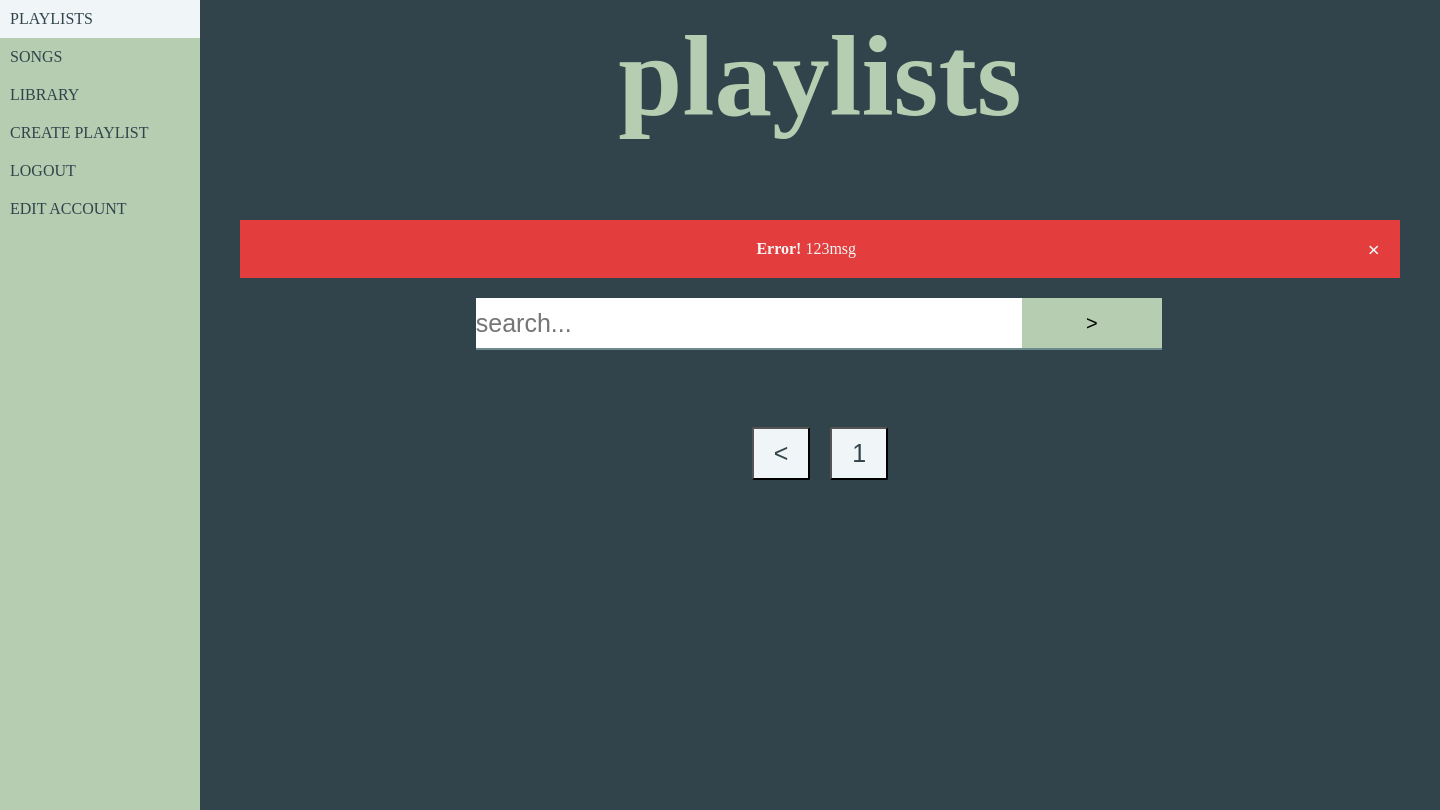
it: tests main render with error
Check: the text "× Error! 123msg" is shown, box [240,220,1400,278]
Click the text "×": (1374, 250) [1368,240,1380,260]
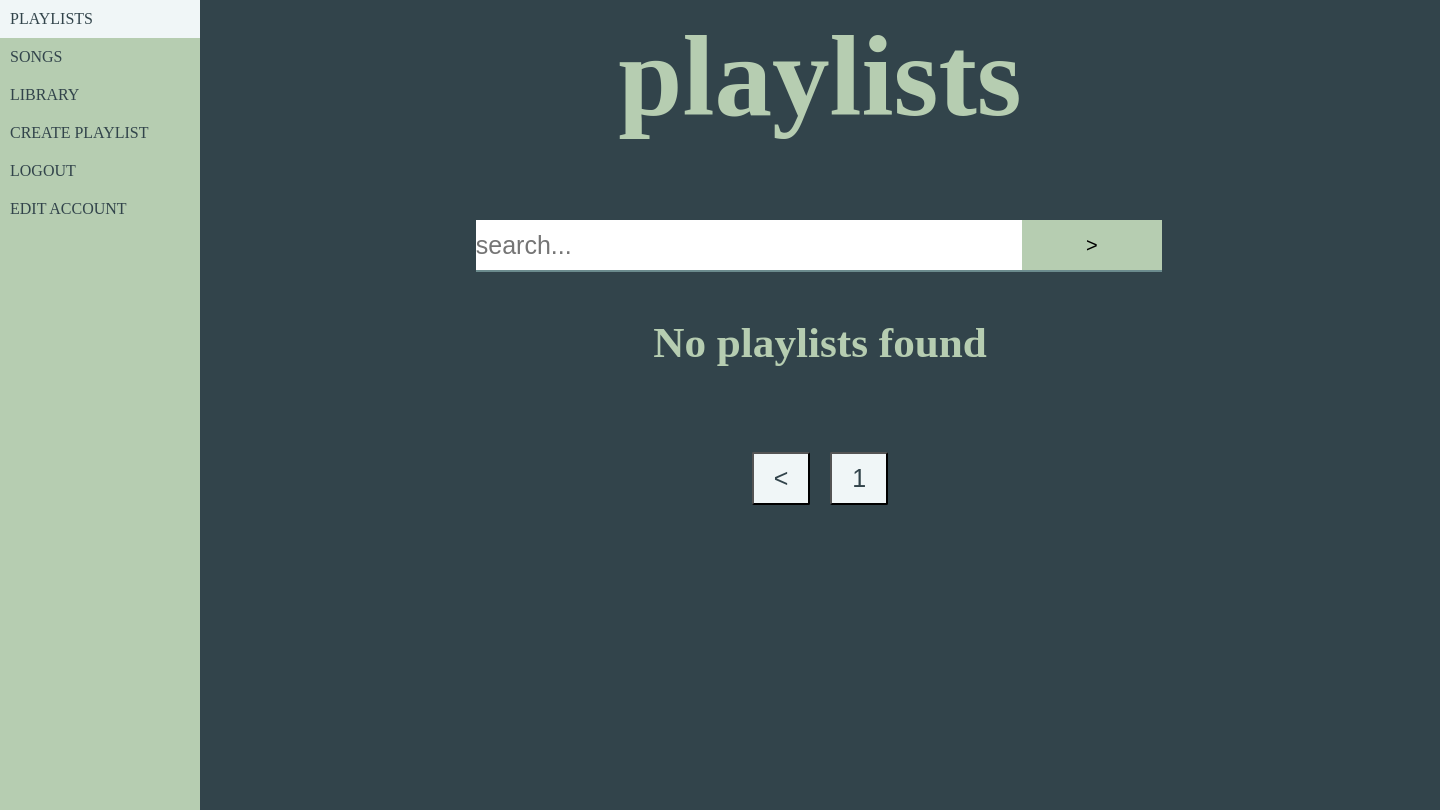
Check: the text "msg" is gone
